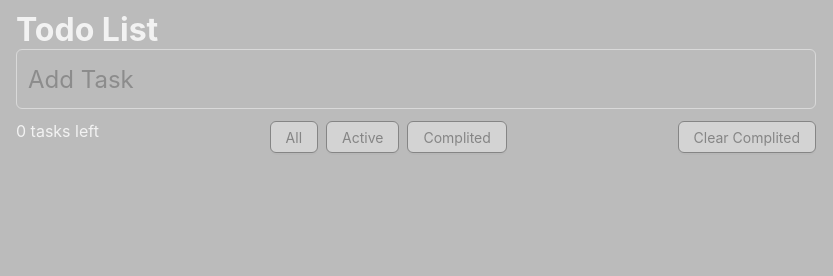
Test: Task test › show Active Tasks
Type "CLEAN THE DISHES" into the field with test id "addTask" at (416, 79), box left=16, top=49, right=816, bottom=109
Then press Enter
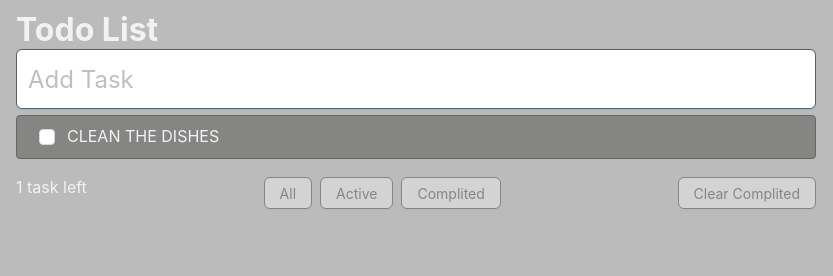
Type "CLEAN MY ROOM" into the field with test id "addTask" at (416, 79), box left=16, top=49, right=816, bottom=109
Then press Enter
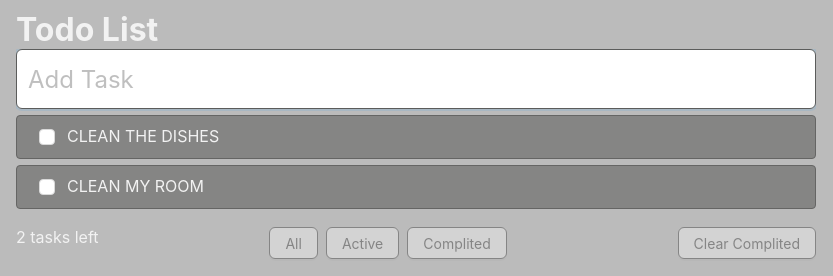
expect the text "CLEAN THE DISHES" is shown: met, box left=67, top=126, right=219, bottom=148
expect the text "CLEAN MY ROOM" is shown: met, box left=67, top=176, right=204, bottom=198
Click the checkbox with test id "CLEAN THE DISHES" at (47, 137), box left=39, top=126, right=55, bottom=148
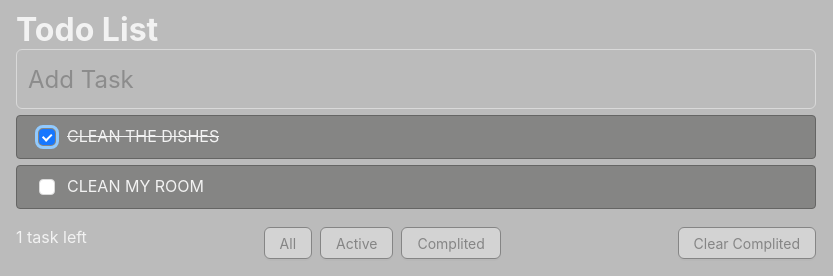
Click the button "Complited" at (451, 243), box left=401, top=227, right=501, bottom=259
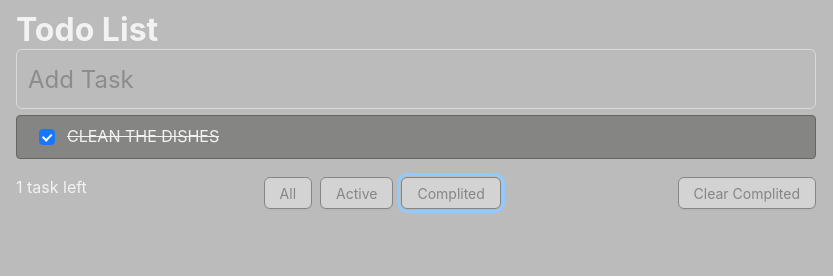
expect the text "CLEAN THE DISHES" is shown: met, box left=67, top=126, right=219, bottom=148
expect the text "CLEAN MY ROOM" is gone: met
